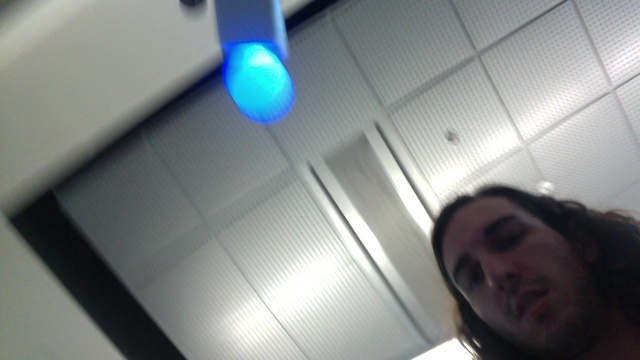wand: (226, 45, 294, 121)
